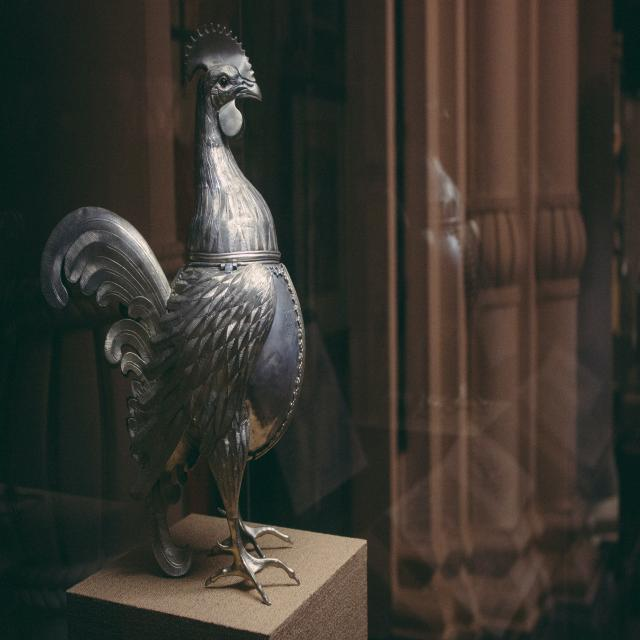Metal: (40, 30, 308, 589)
